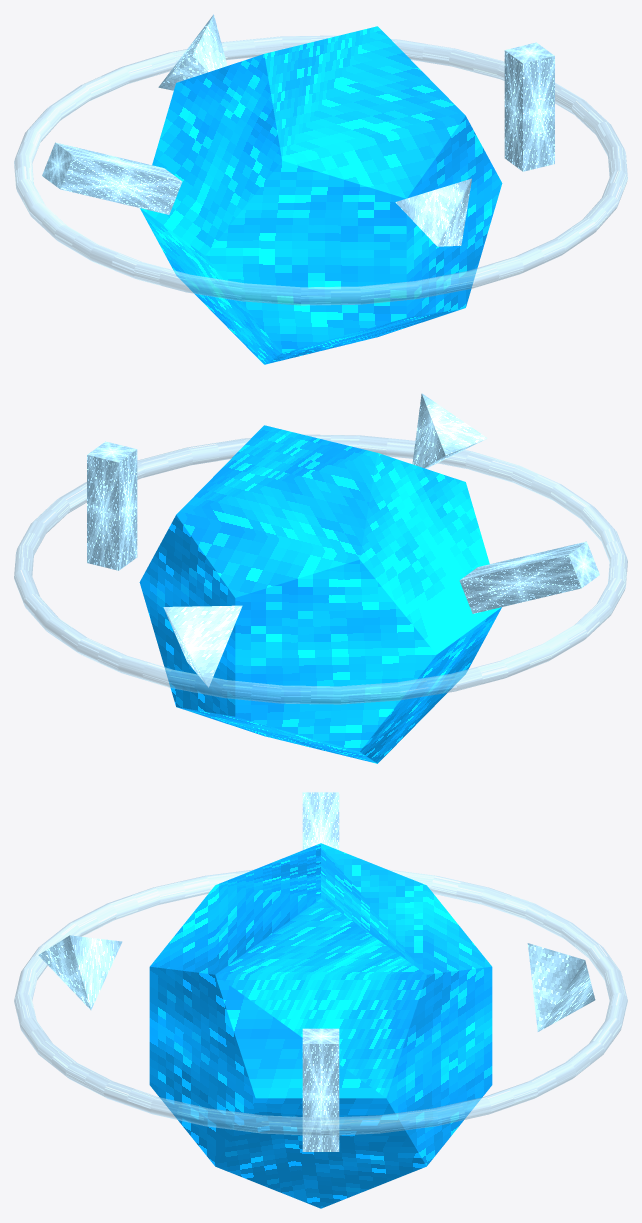
The model's file is anomaly-cluster-cyan.glb.
3 renders of one model, top to bottom at view 1: azimuth 30°, elevation 25°; view 2: azimuth 150°, elevation 25°; view 3: azimuth 270°, elevation 25°, orthographic.
Visible parts, largest first — view 1: shell, ring, orbital-0, orbital-2, orbital-1, orbital-3; view 2: shell, ring, orbital-0, orbital-2, orbital-3, orbital-1; view 3: shell, ring, orbital-0, orbital-3, orbital-1, orbital-2.
Part boxes in pixels (x1,y1,x2,y2): shell: (140, 26, 502, 364); ring: (14, 35, 627, 305); orbital-0: (504, 42, 554, 171); orbital-2: (42, 142, 182, 214); orbital-1: (395, 178, 471, 246); orbital-3: (158, 14, 227, 90); shell: (139, 425, 501, 763); ring: (14, 434, 627, 704); orbital-0: (87, 441, 137, 570); orbital-2: (459, 541, 599, 613); orbital-3: (163, 605, 242, 687); orbital-1: (412, 393, 487, 468); shell: (149, 843, 492, 1208); ring: (14, 869, 627, 1135); orbital-0: (302, 1028, 339, 1151); orbital-3: (527, 943, 595, 1031); orbital-1: (38, 935, 122, 1010); orbital-2: (302, 792, 339, 849).
Bounding box in the file's own units: 2.7 × 1.49 × 2.68.
Materials: 3 (3 with a texture image).
